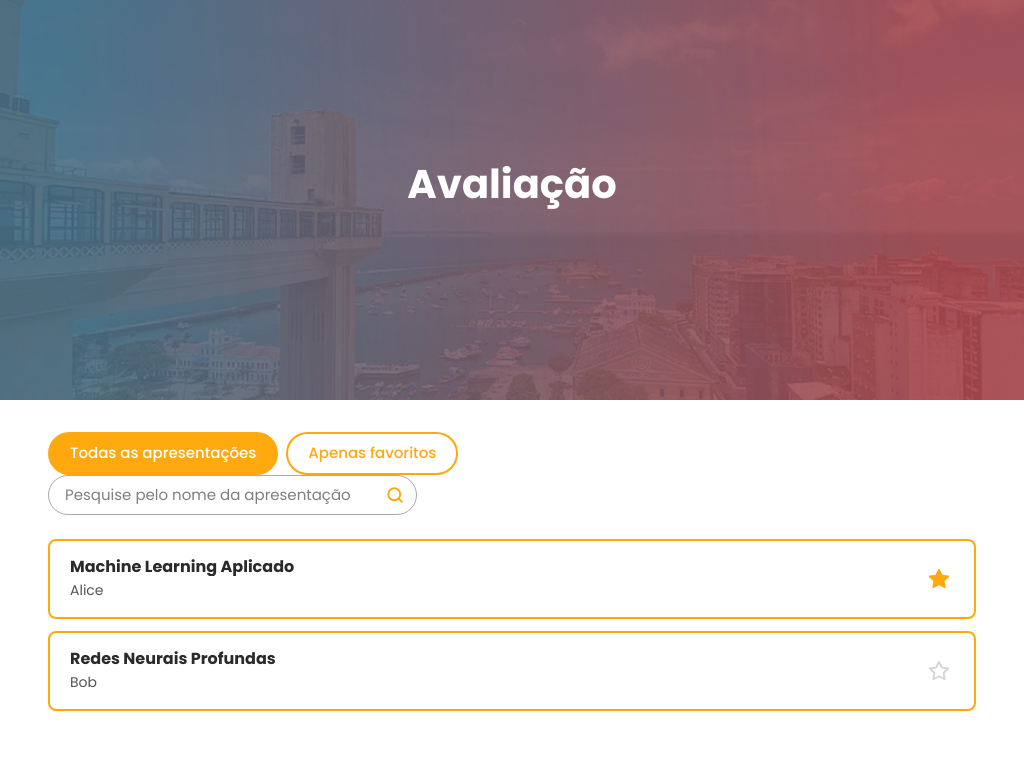
AvaliacaoListagemPage › filters by search within active tab
Expected: the heading "Machine Learning Aplicado" is shown, x1=70 y1=555 x2=294 y2=578
Step 1. Type "Redes" into the field with placeholder "Pesquise pelo nome da apresentação" → (212, 495), box x1=49 y1=476 x2=374 y2=514
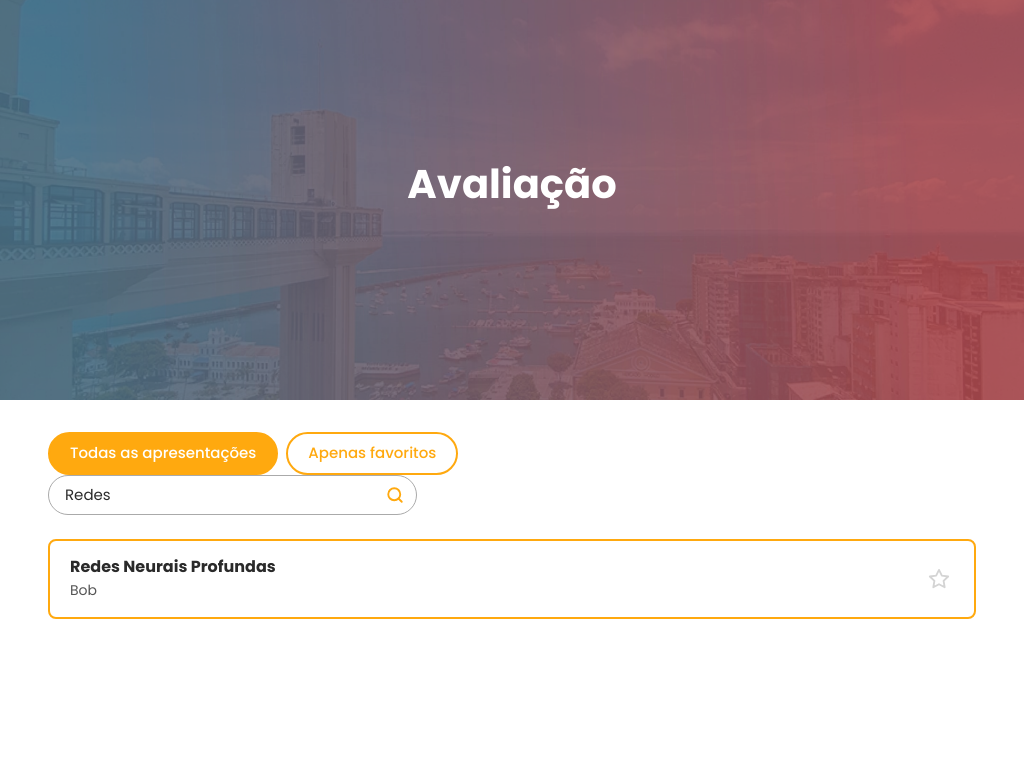
Expected: the heading "Redes Neurais Profundas" is shown, x1=70 y1=555 x2=276 y2=578
Expected: the button "Machine Learning Aplicado" is gone
